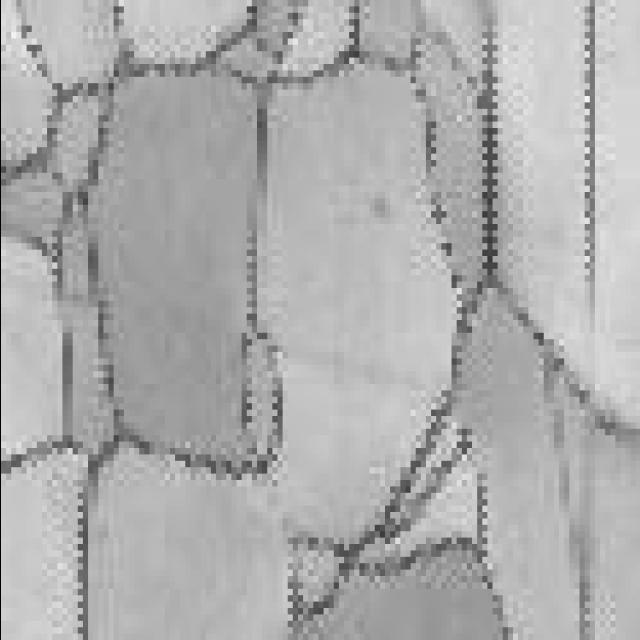good_void: (371, 194, 390, 230)
